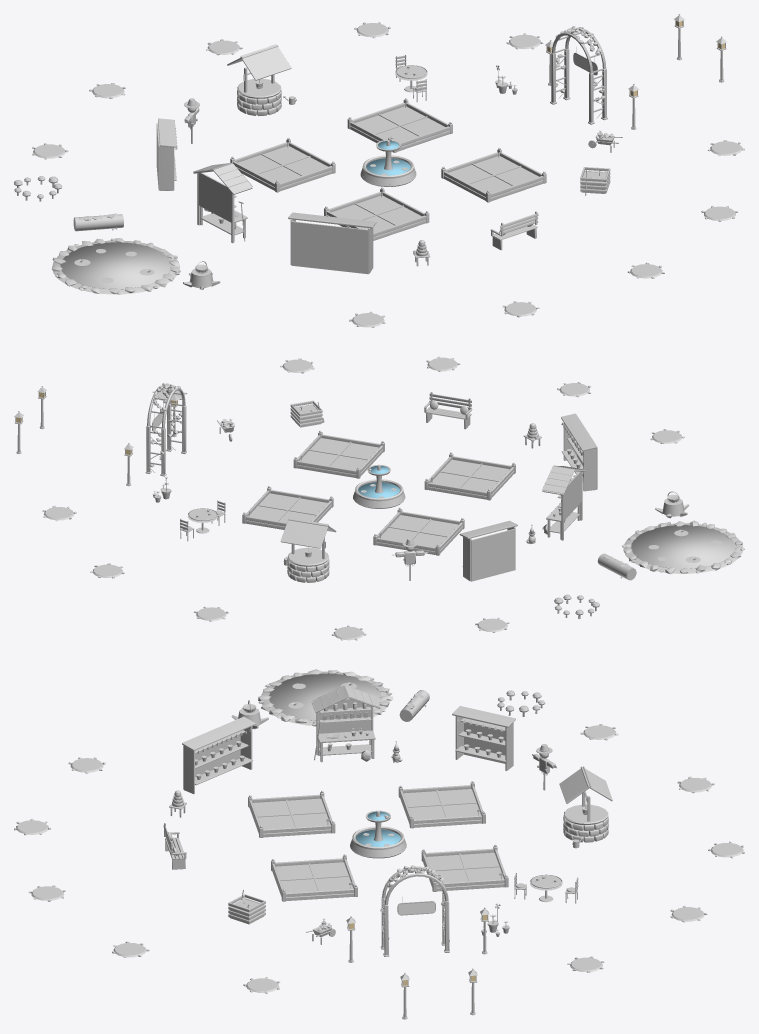
File: zon_garden_lite.glb
3 renders of one model, top to bottom at view 1: azimuth 30°, elevation 25°; view 2: azimuth 150°, elevation 25°; view 3: azimuth 270°, elevation 25°, orthographic. The views are drawn at different scales.
Parts seen in each view (by area): view 1: SM_zon_garden_lite_kit_garden_xm1_z0_LOD0, SM_zon_garden_lite_garden_water_xm1_z0; view 2: SM_zon_garden_lite_kit_garden_xm1_z0_LOD0, SM_zon_garden_lite_garden_water_xm1_z0; view 3: SM_zon_garden_lite_kit_garden_xm1_z0_LOD0, SM_zon_garden_lite_garden_water_xm1_z0.
Boxes of the visible parts, x1=… form: SM_zon_garden_lite_kit_garden_xm1_z0_LOD0: x1=14, y1=14, x2=744, y2=327; SM_zon_garden_lite_garden_water_xm1_z0: x1=366, y1=141, x2=410, y2=175; SM_zon_garden_lite_kit_garden_xm1_z0_LOD0: x1=14, y1=356, x2=744, y2=640; SM_zon_garden_lite_garden_water_xm1_z0: x1=358, y1=465, x2=400, y2=498; SM_zon_garden_lite_kit_garden_xm1_z0_LOD0: x1=14, y1=669, x2=744, y2=1019; SM_zon_garden_lite_garden_water_xm1_z0: x1=355, y1=811, x2=400, y2=846.
Bounding box in the file's own units: 33.62 × 3.85 × 29.75.
